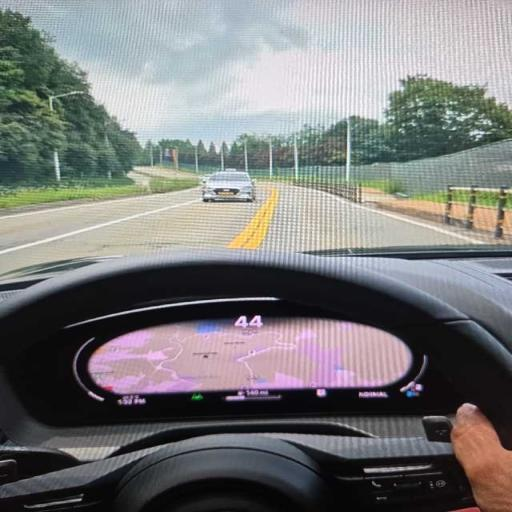car: (203, 170, 255, 202)
lane: (0, 182, 475, 273), (262, 185, 479, 251), (0, 189, 198, 249)
person: (452, 404, 511, 511)
